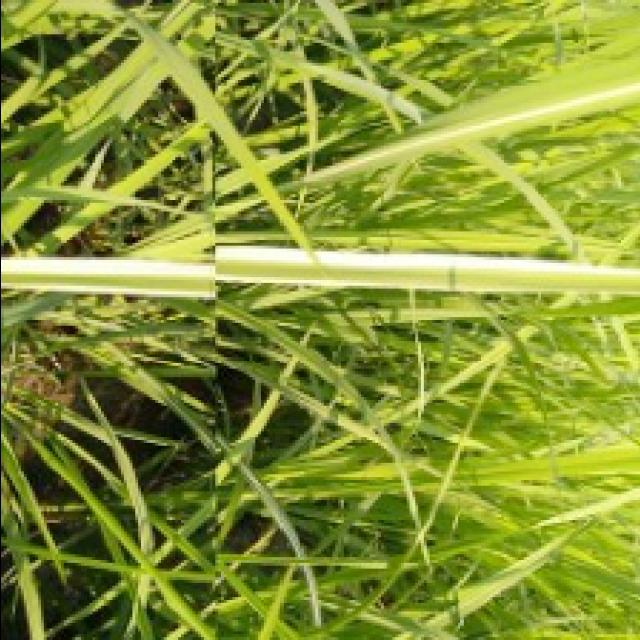Unhealthy: (283, 81, 640, 183), (206, 246, 640, 278)
